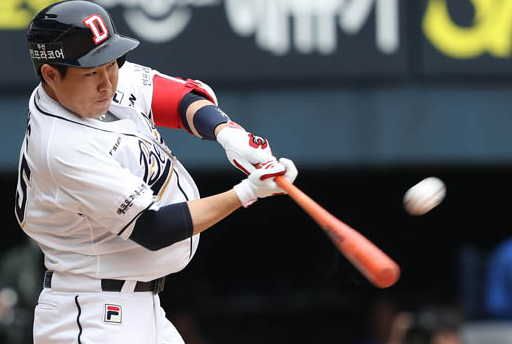ball: (402, 178, 446, 215)
